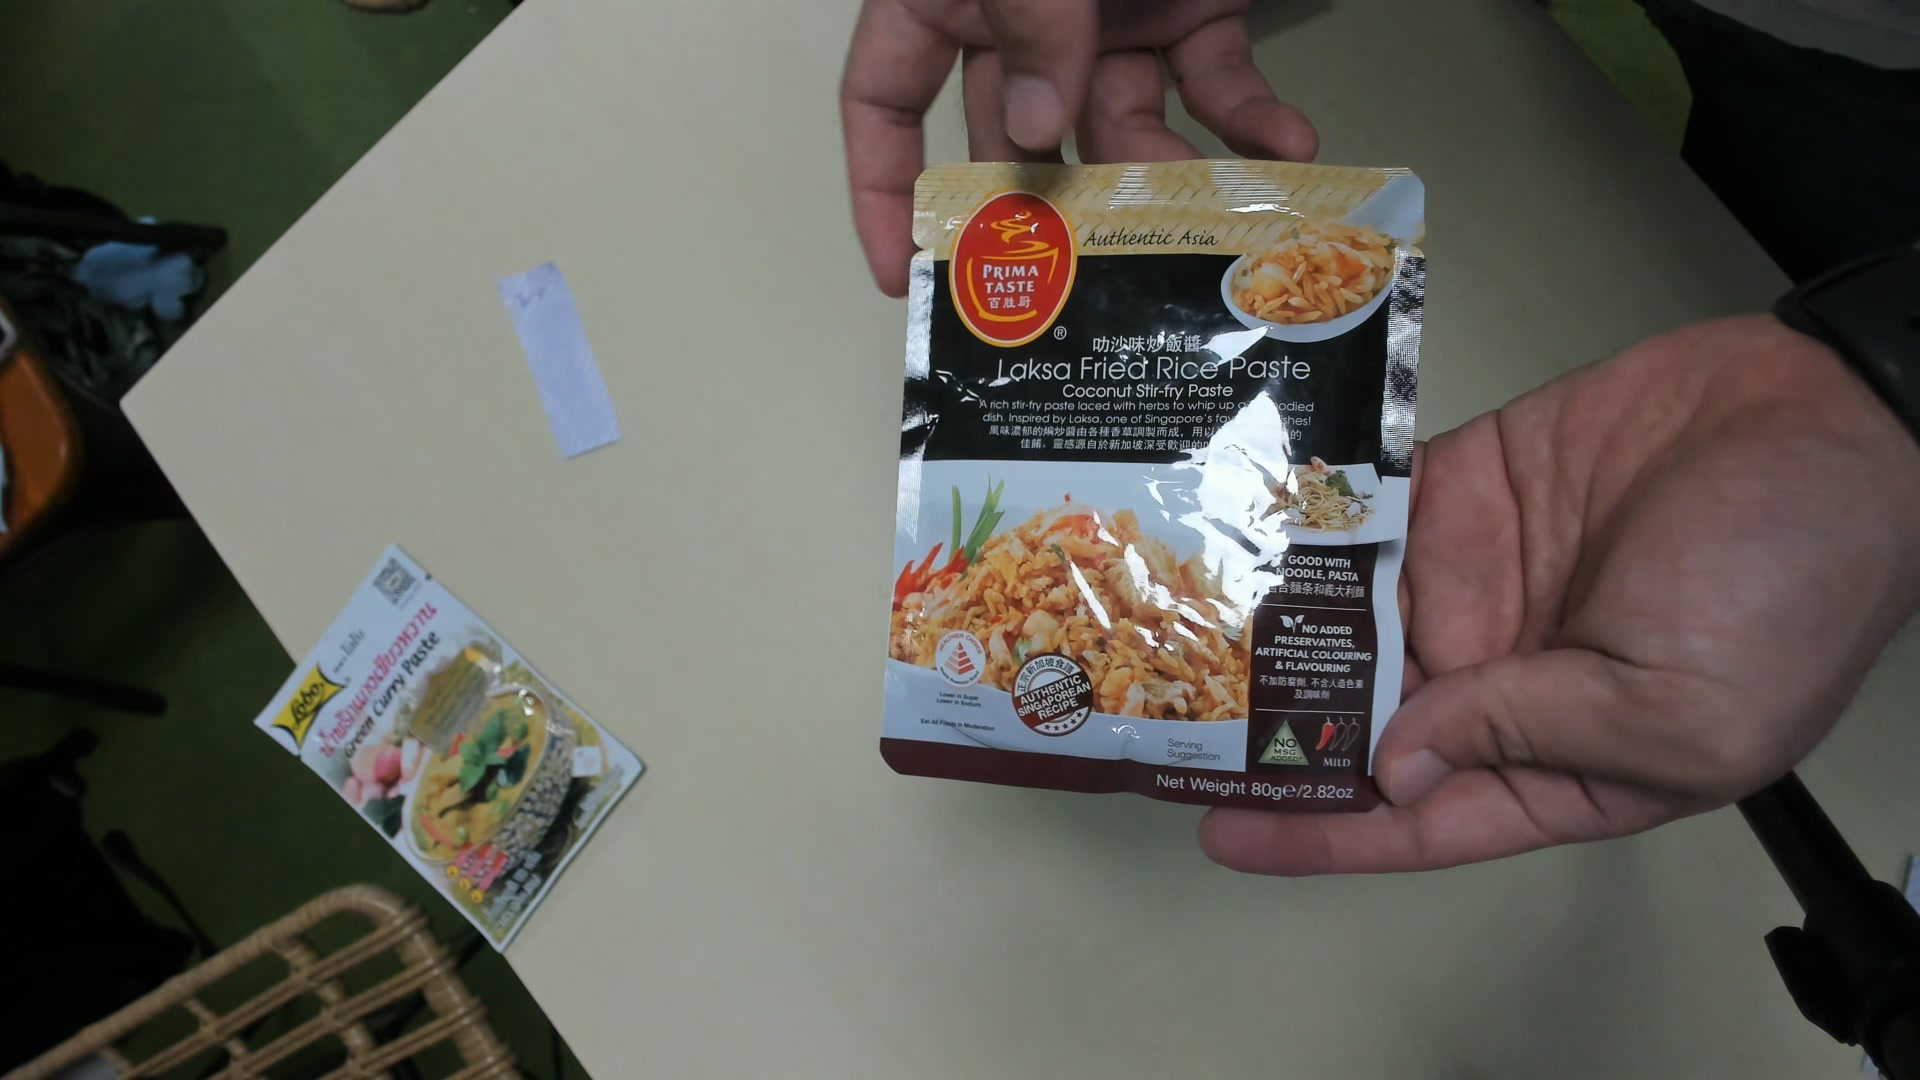OtherSauceDressing_0-99g_Halal_NonHealthy: (881, 164, 1408, 816)
